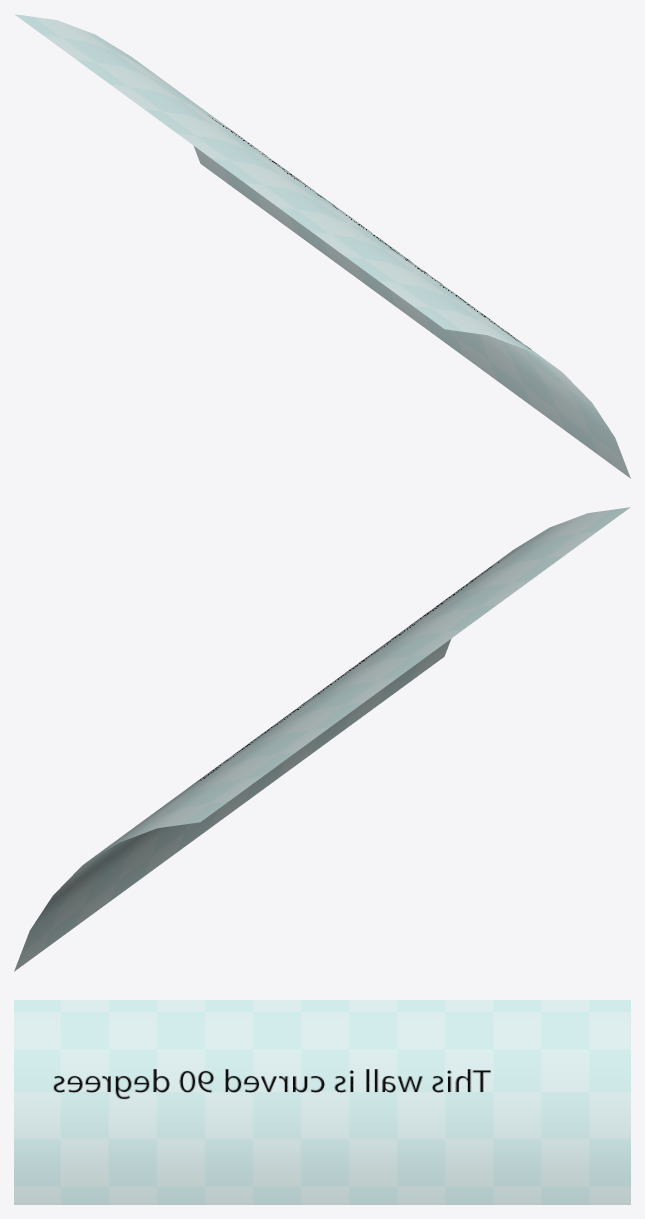
Rendered from wall_corner_round_hull.fbx.
The picture shows the model from 3 angles, top to bottom: view 1: azimuth 30°, elevation 25°; view 2: azimuth 150°, elevation 25°; view 3: azimuth 270°, elevation 25°; orthographic projection. The views are drawn at different scales.
Visible parts, largest first — view 1: wall_corner_round_hull; view 2: wall_corner_round_hull; view 3: wall_corner_round_hull.
Part boxes in pixels (left/top/right/bottom): wall_corner_round_hull: left=14, top=14, right=630, bottom=478; wall_corner_round_hull: left=14, top=507, right=630, bottom=971; wall_corner_round_hull: left=14, top=1000, right=630, bottom=1204.
Bounding box in the file's own units: 100 × 100 × 400.
